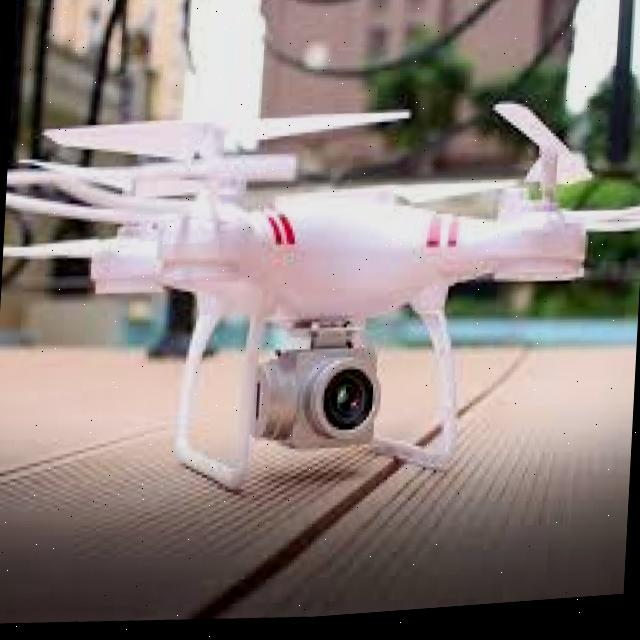drone: (0, 48, 640, 553)
